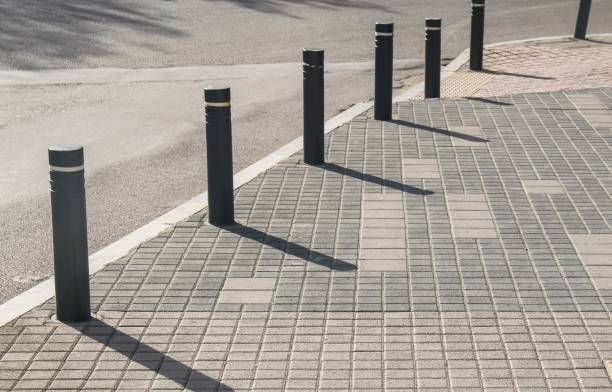bollard: (43, 136, 100, 323), (194, 82, 240, 227), (294, 44, 331, 165), (369, 17, 397, 121), (419, 15, 443, 96), (465, 0, 490, 72)
